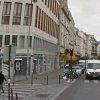Car: (81, 52, 100, 85)
